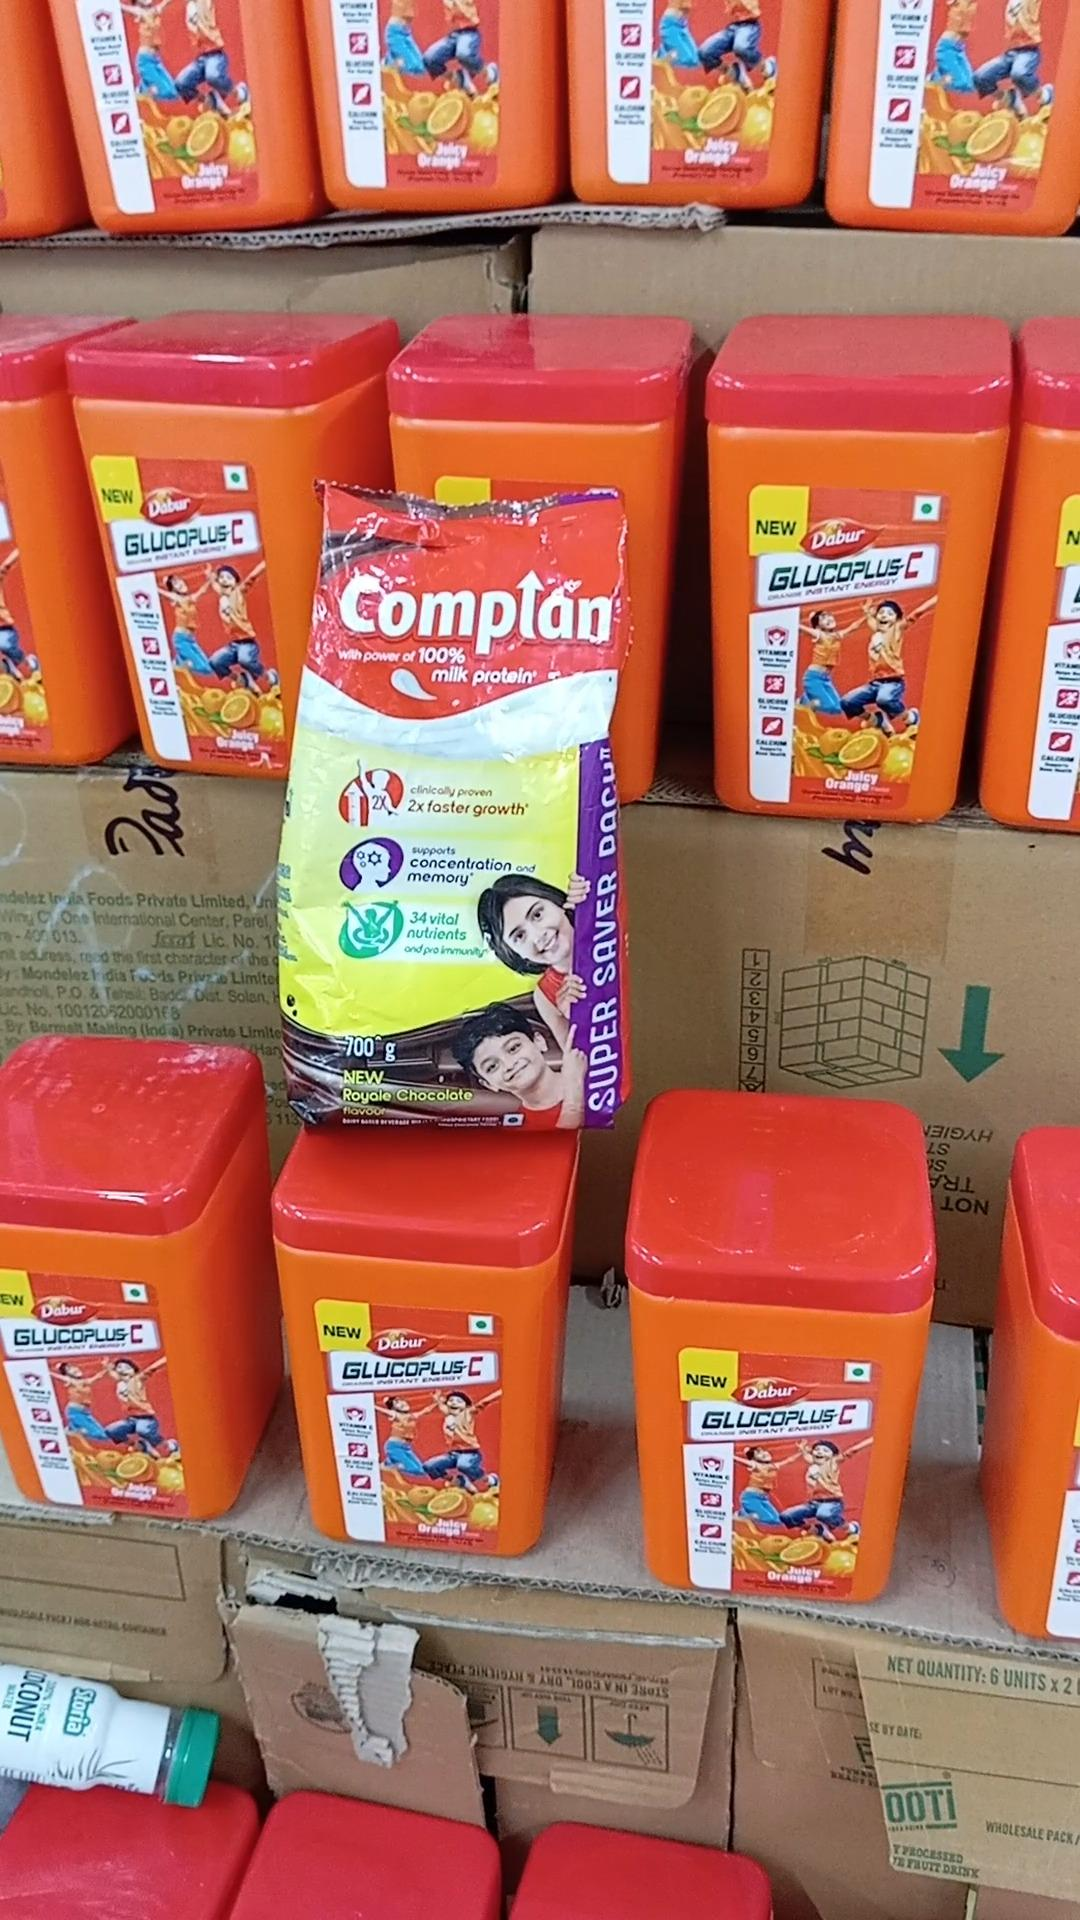COMPLAN_RC_POUCH_700_GMS_12: (295, 489, 626, 1133)
